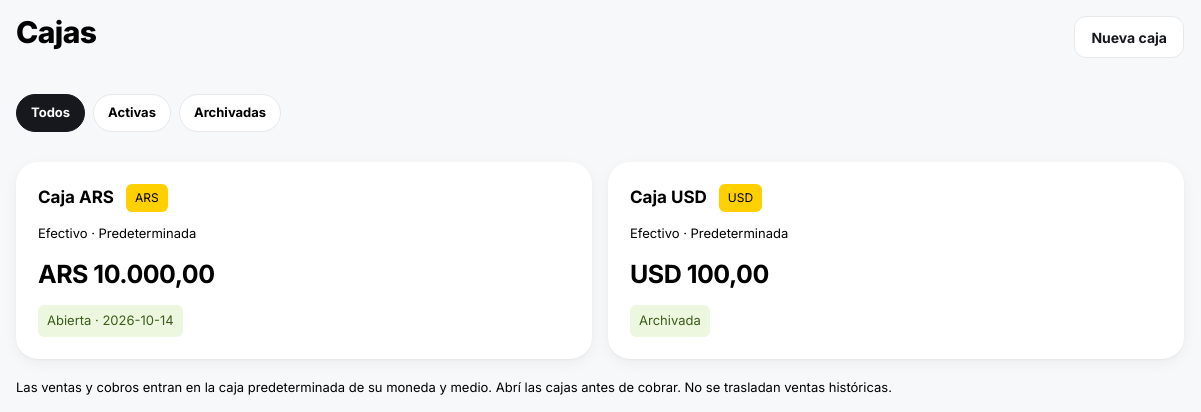
Test case: keeps archived registers red in Todos and preserves the active and archived tabs
Click the button "Activas" at (132, 113), box [93, 94, 171, 132]
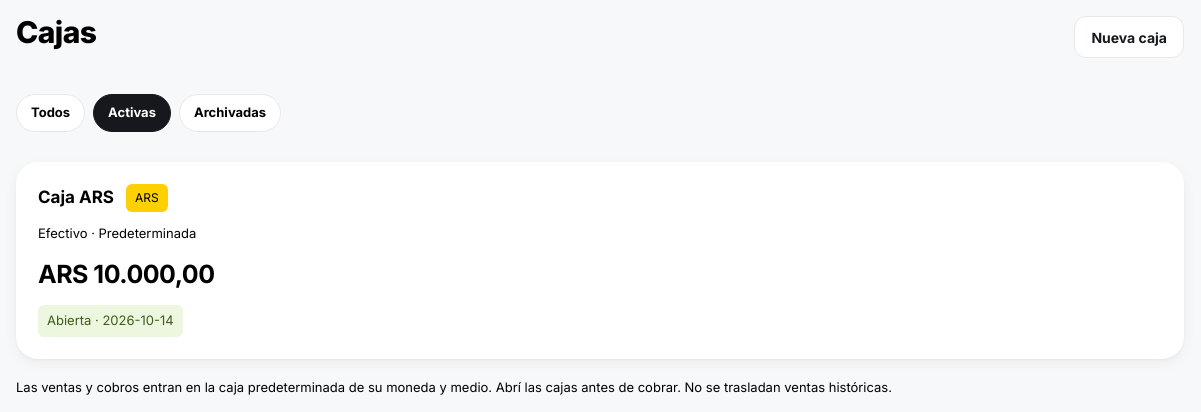
Expected: the button "Caja USD" is gone
Click the button "Archivadas" at (230, 113), box [179, 94, 281, 132]
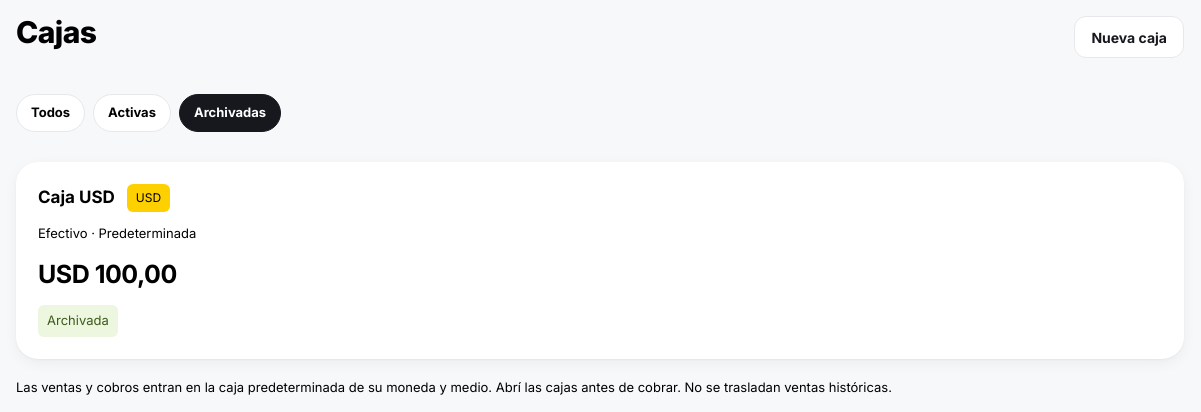
Expected: the button "Caja ARS" is gone
